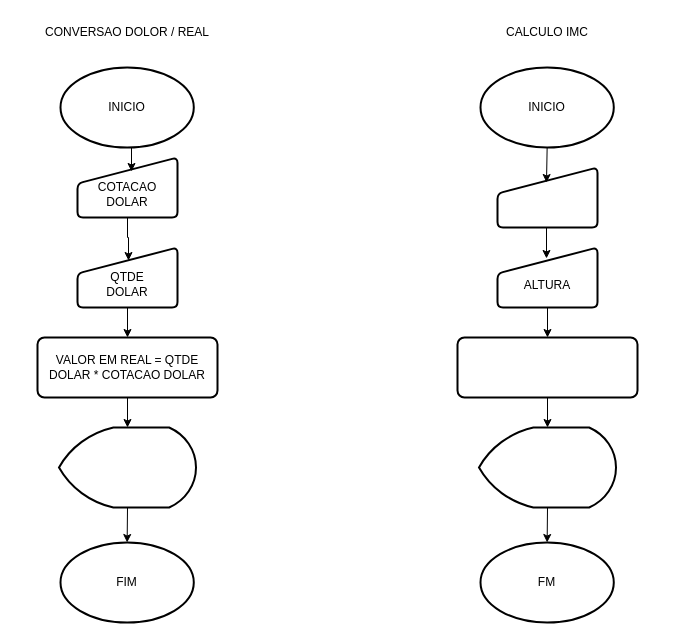
This 674x640 diagram has some shape labels left out. Here are the shapes that lost their labels. From the top down, the centre of each, then its label:
the point at 547,197: PESO
the point at 547,367: IMC = PESO / (ALTURA * ALTURA)
the point at 127,467: VALOR EM REAL
the point at 547,467: IMC
